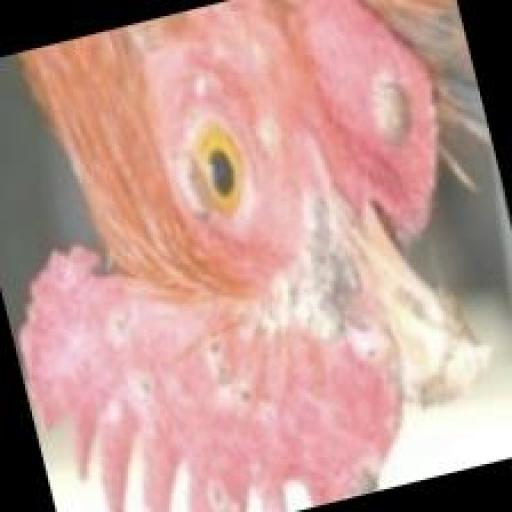disease: (79, 298, 163, 426), (306, 415, 398, 506), (304, 292, 400, 377), (196, 318, 274, 416), (351, 54, 418, 151), (184, 451, 267, 512)
